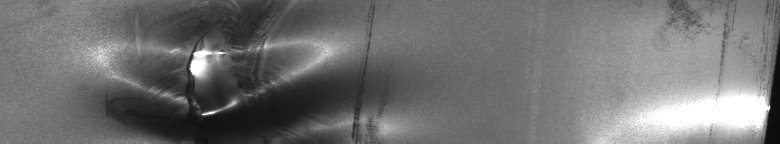ke: (112, 36, 370, 136)
